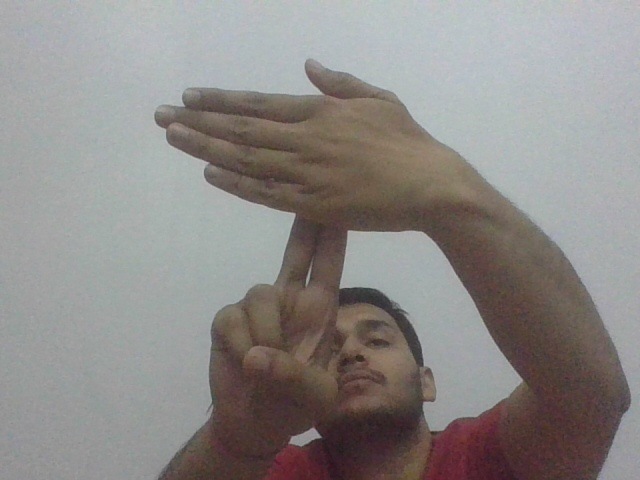N: (142, 56, 421, 284)
